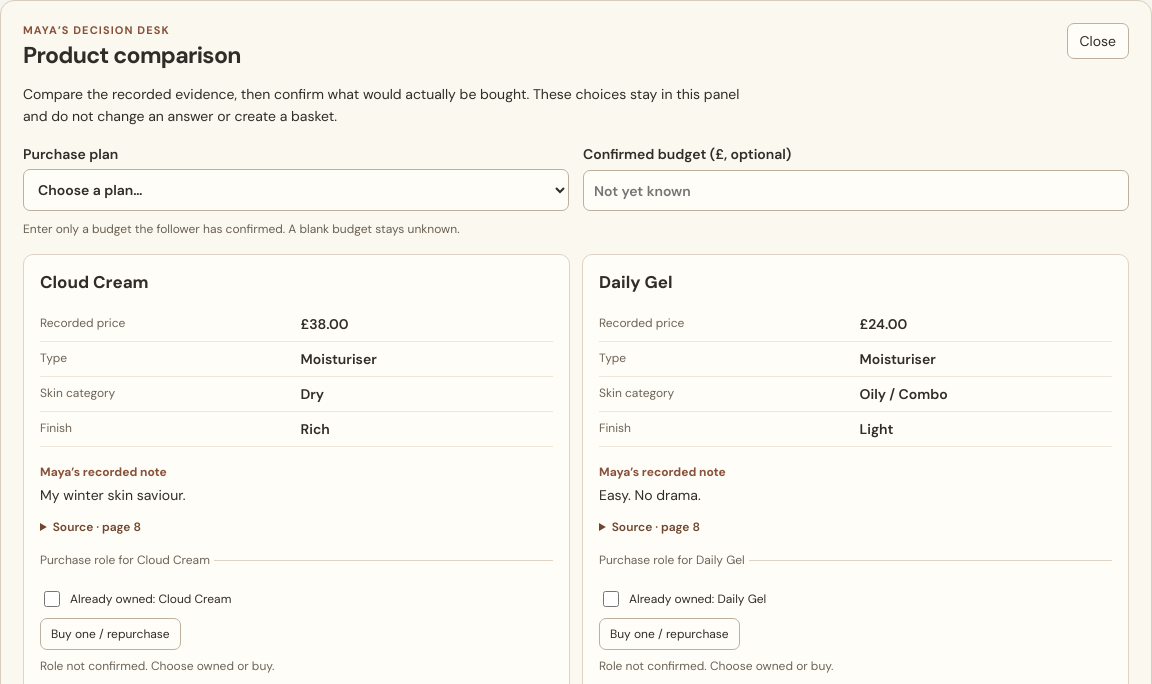
Test: Product comparison panel › counts owned products as no new spend and unchecking owned explicitly repurchases
Select "Buy together" in the dropdown labelled "Purchase plan" at (296, 190), box [23, 169, 569, 211]
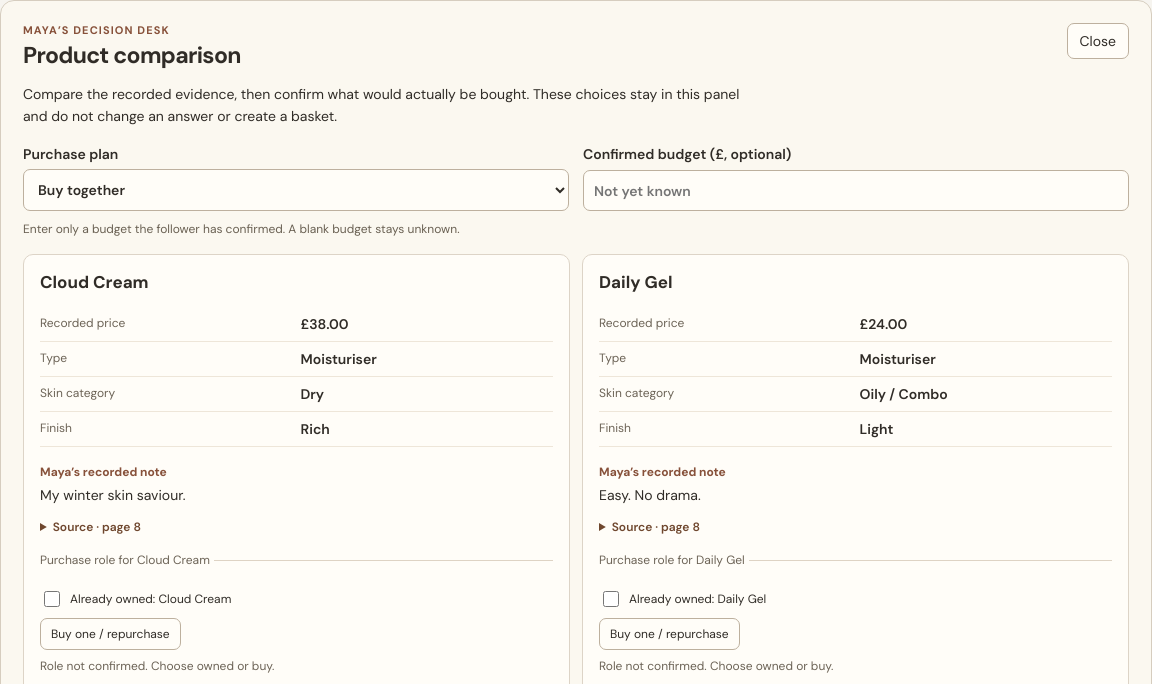
Click the checkbox labelled "Already owned: Cloud Cream" at (52, 599), box [44, 591, 60, 607]
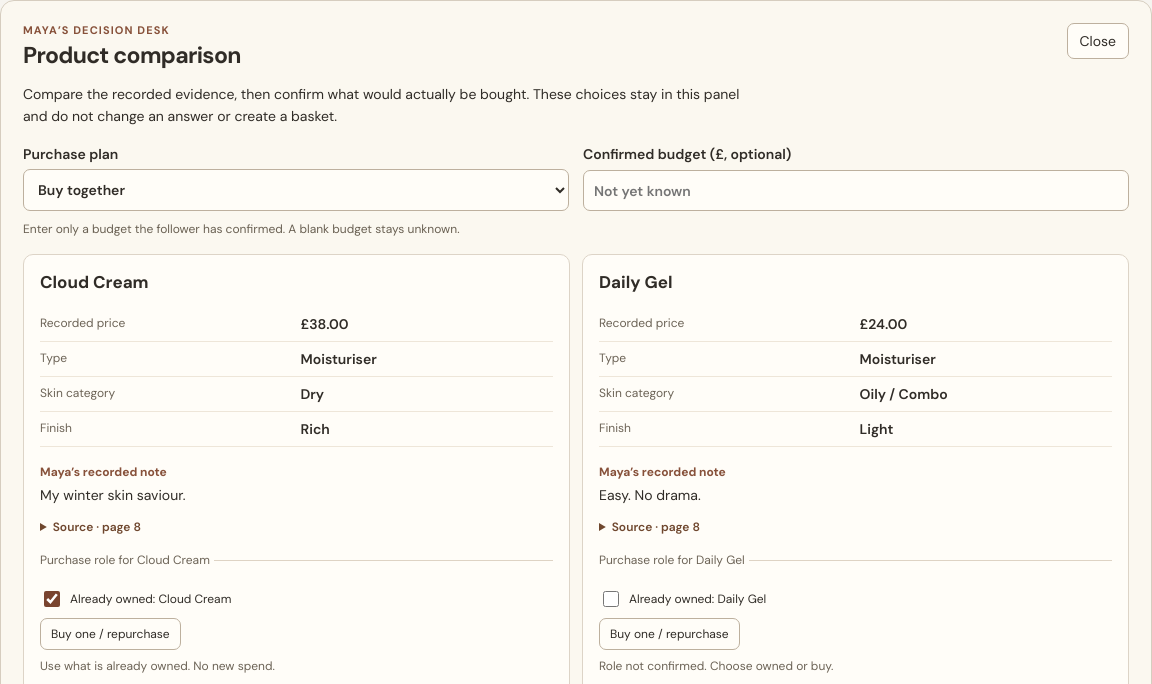
Click the button with aria-label "Buy one or repurchase Daily Gel" at (669, 634), box [599, 618, 740, 650]
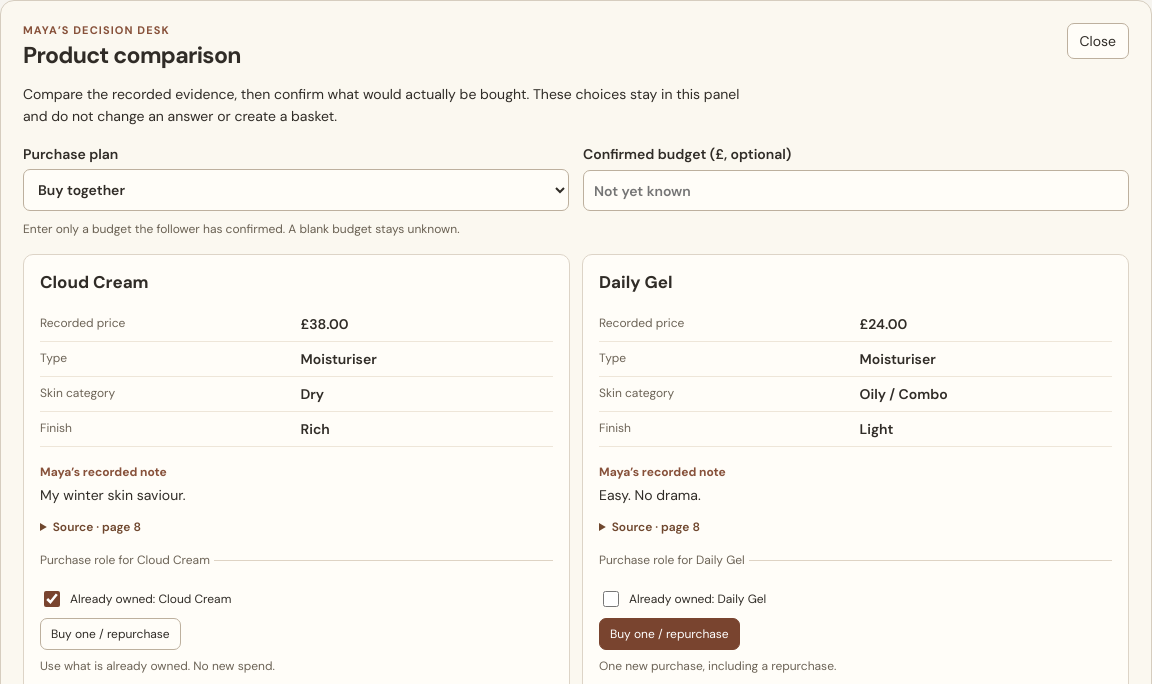
Type "30" into the field labelled "Confirmed budget (£, optional)" at (856, 191), box [583, 170, 1129, 211]
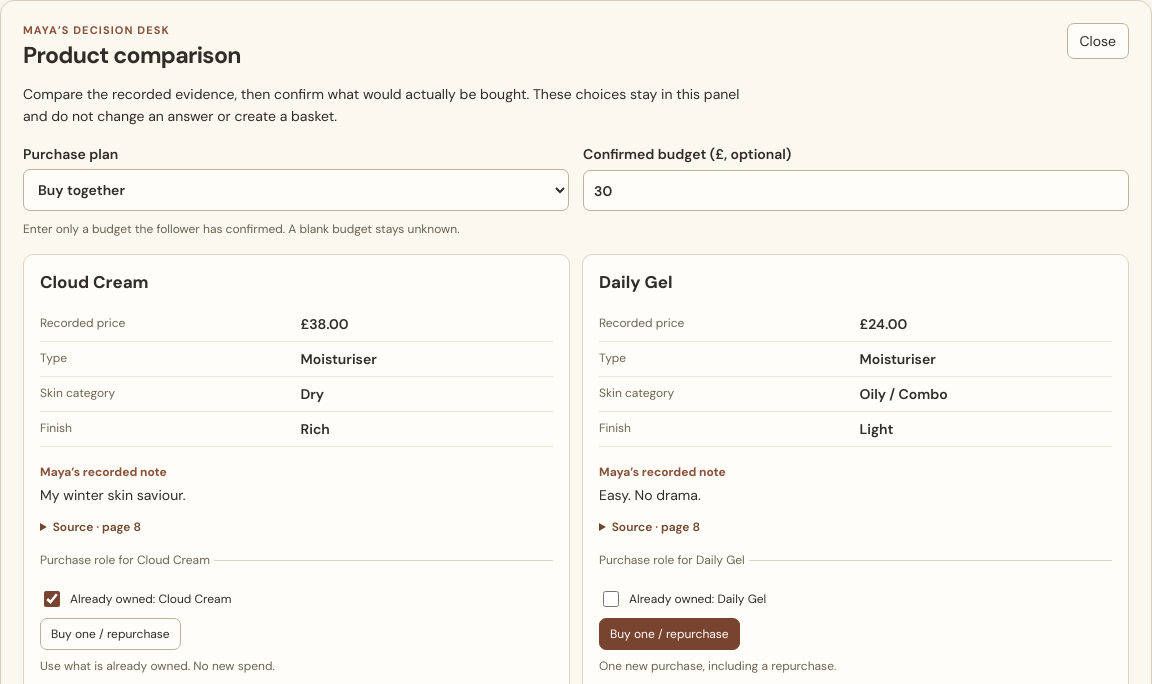
Click the checkbox labelled "Already owned: Cloud Cream" at (52, 599), box [44, 591, 60, 607]
(page scrolled)
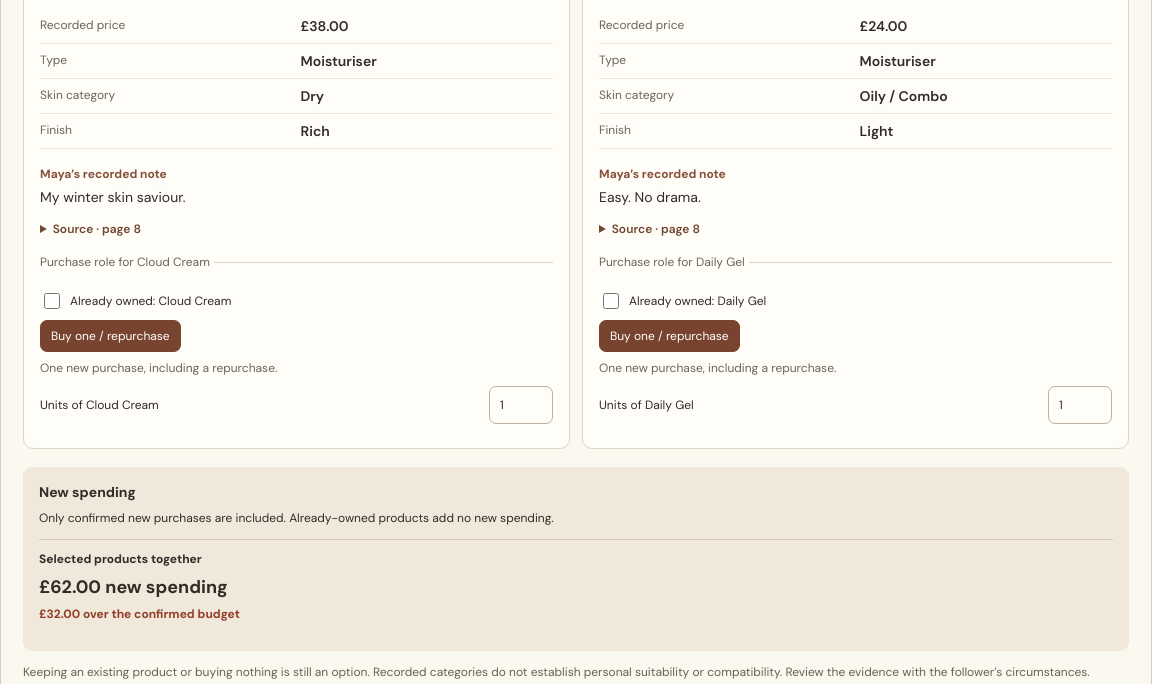
Result: the text "£62.00 new spending" is shown at [39, 575, 228, 599]
Result: the text "£32.00 over the confirmed budget" is shown at [39, 606, 240, 622]
